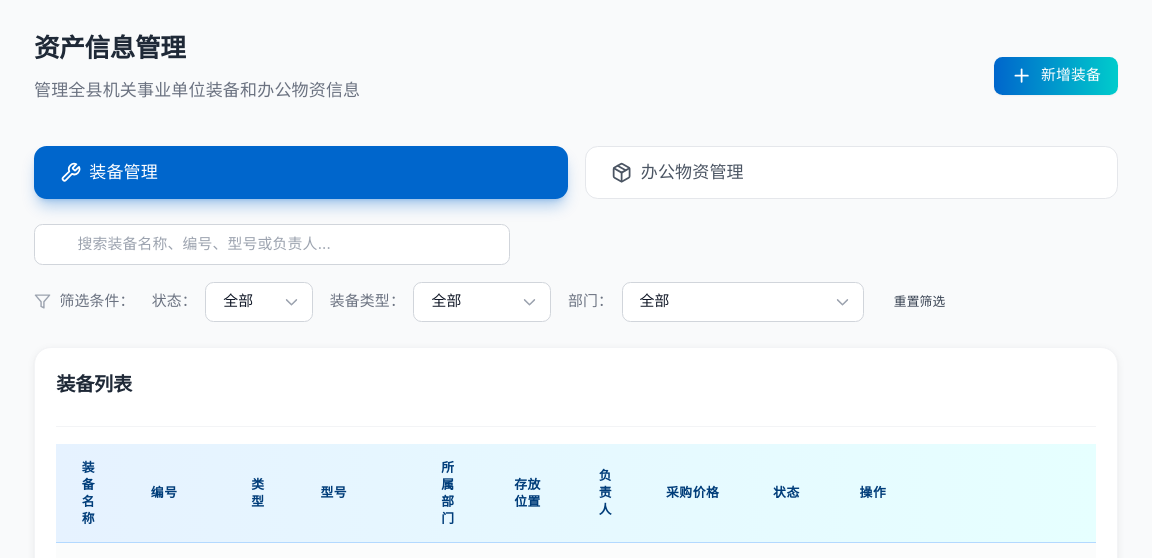
Test case: AssetManagement Page › filters equipment by status
The width and height of the screenshot is (1152, 558).
Select "维修中" in the dropdown next to "状态：" at [259, 302], box [205,282,313,322]
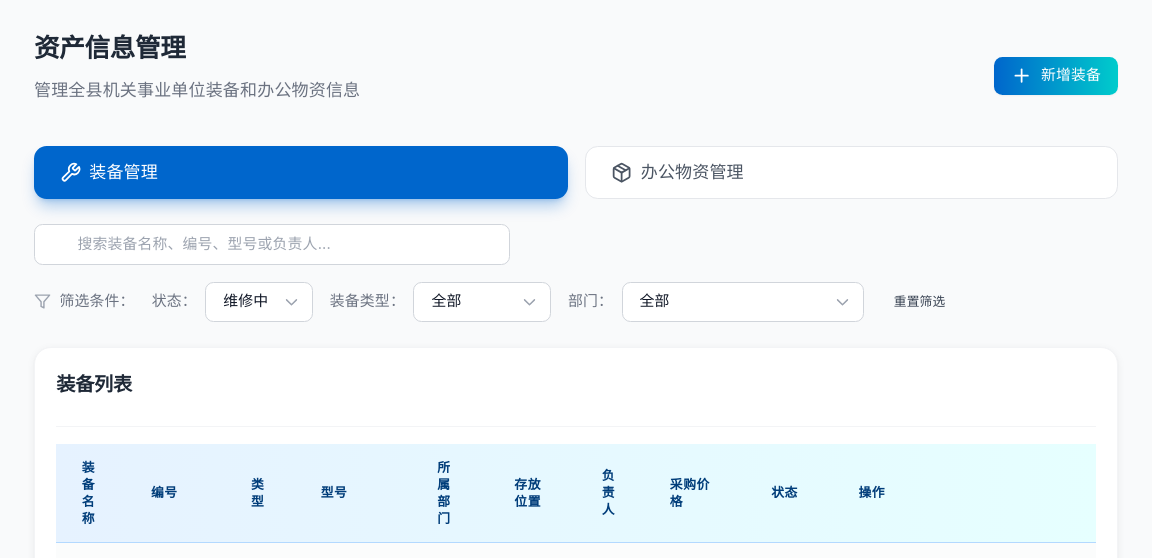
Select "全部" in the dropdown next to "状态：" at [259, 302], box [205,282,313,322]
(page scrolled)
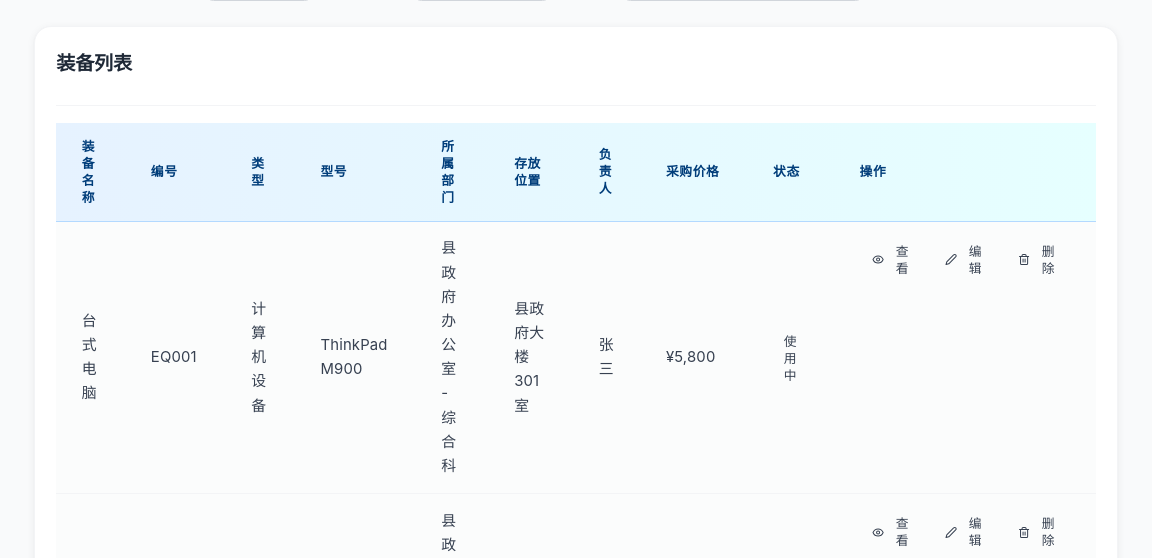
Expected: the text "台式电脑" is shown, [56,221,125,494]
